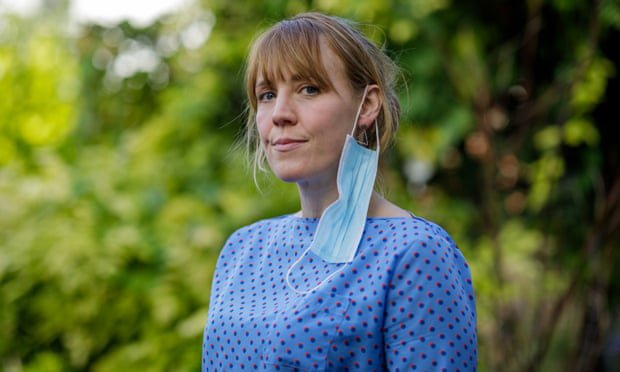without_mask: (253, 76, 361, 186)
